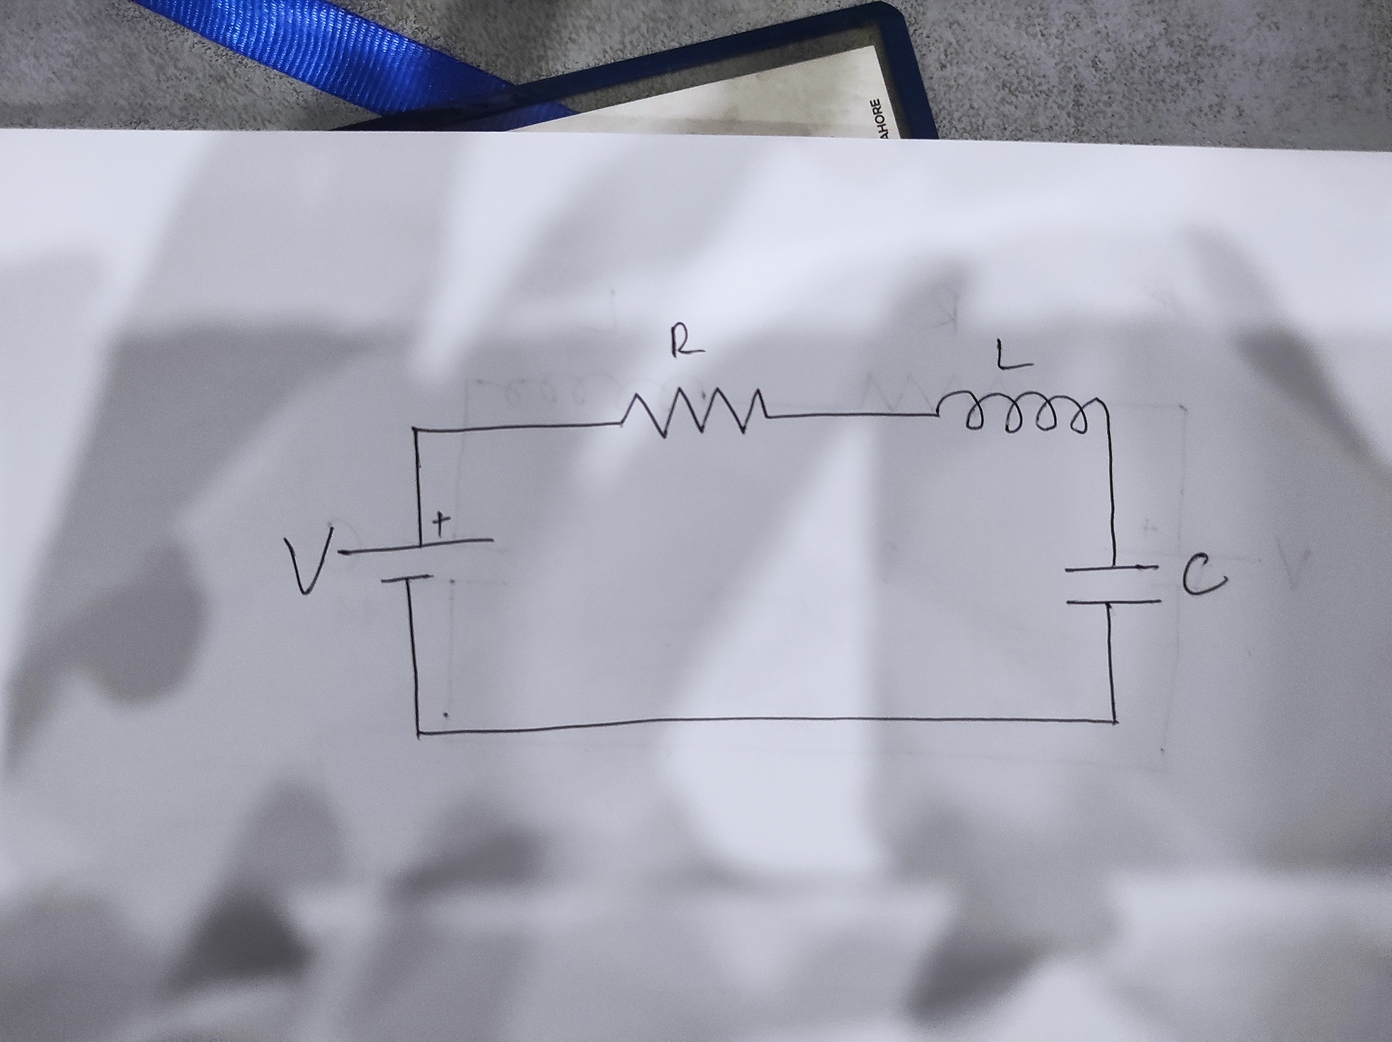capacitor.unpolarized: (1058, 557, 1165, 613)
inductor: (932, 387, 1117, 437)
junction: (1103, 710, 1126, 733), (406, 419, 428, 438), (411, 725, 427, 741)
resistor: (615, 383, 772, 442)
text: (279, 522, 338, 598), (1178, 545, 1230, 599), (991, 333, 1040, 373), (668, 319, 709, 360)
voltage.dc: (335, 508, 498, 588)
